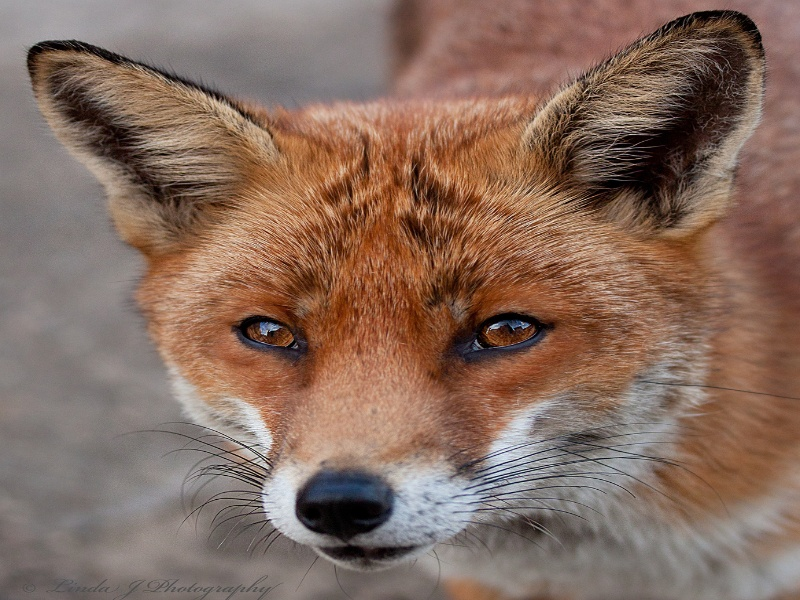fox: (17, 20, 788, 573)
